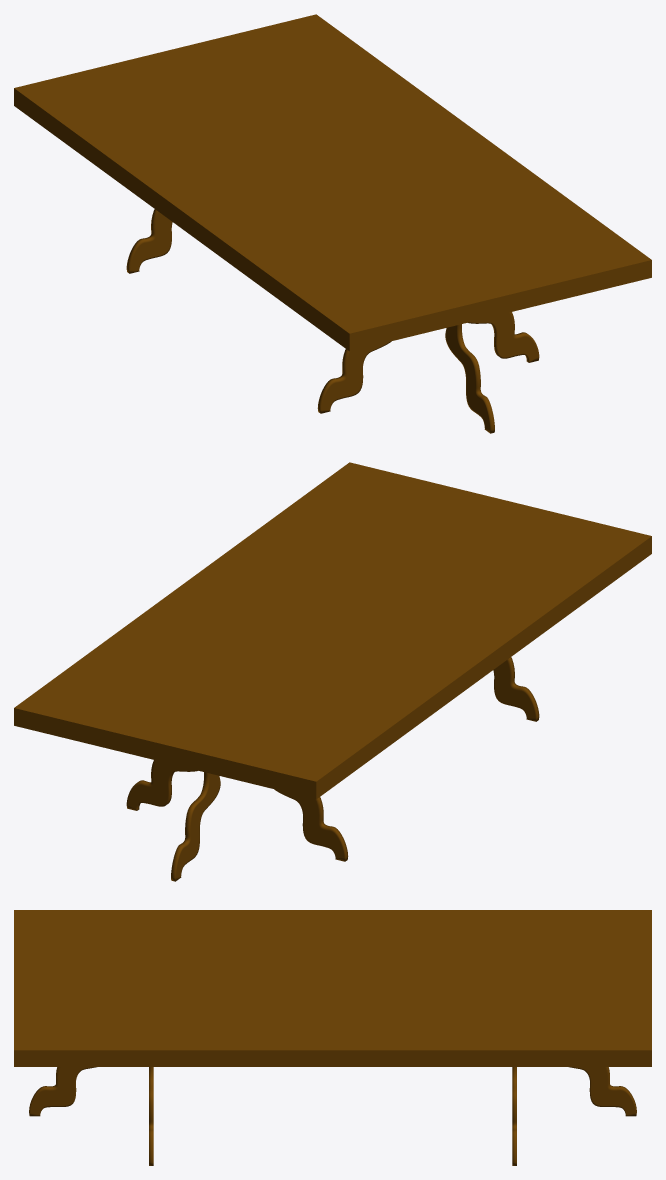
Rendered from mesa_ratimbum.fbx.
The picture shows the model from 3 angles, top to bottom: view 1: azimuth 30°, elevation 25°; view 2: azimuth 150°, elevation 25°; view 3: azimuth 270°, elevation 25°; orthographic projection. The views are drawn at different scales.
Visible parts, largest first — view 1: Cube.001; view 2: Cube.001; view 3: Cube.001.
Part boxes in pixels (<box>): Cube.001: <box>14,14,651,433</box>; Cube.001: <box>14,462,651,881</box>; Cube.001: <box>14,910,651,1165</box>.
Size of the model in its own units: 210 by 94.51 by 404.
